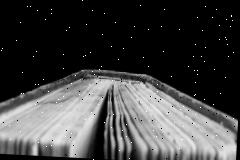paper: (0, 64, 239, 160)
